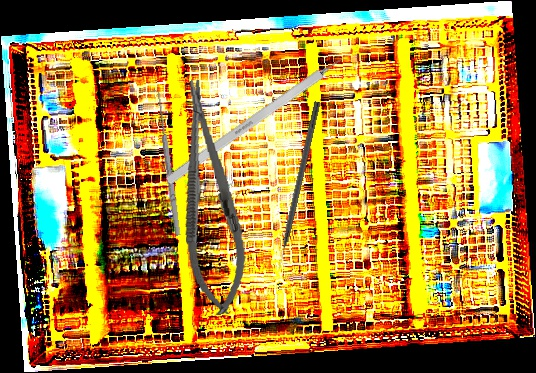Hook Surgical: (164, 42, 362, 187), (274, 100, 321, 270), (148, 89, 183, 237)
Needle Holder: (166, 76, 254, 318)
